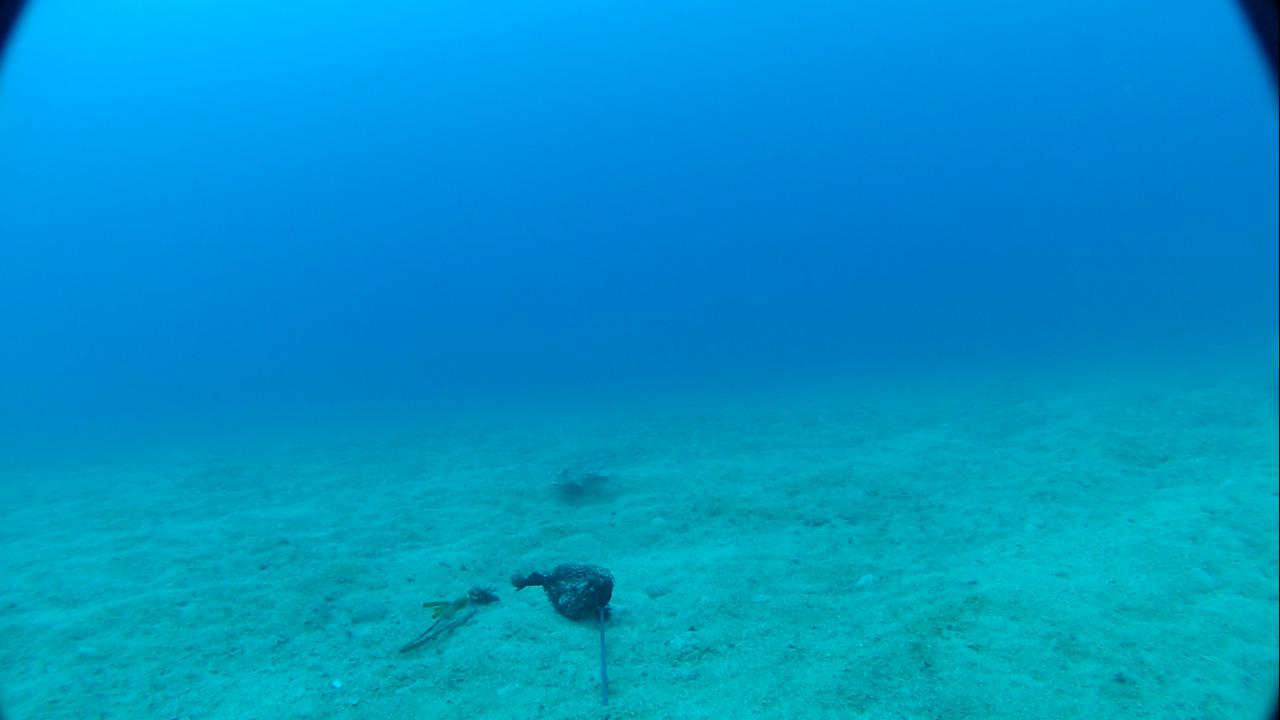dactylopterus: (526, 443, 624, 500)
